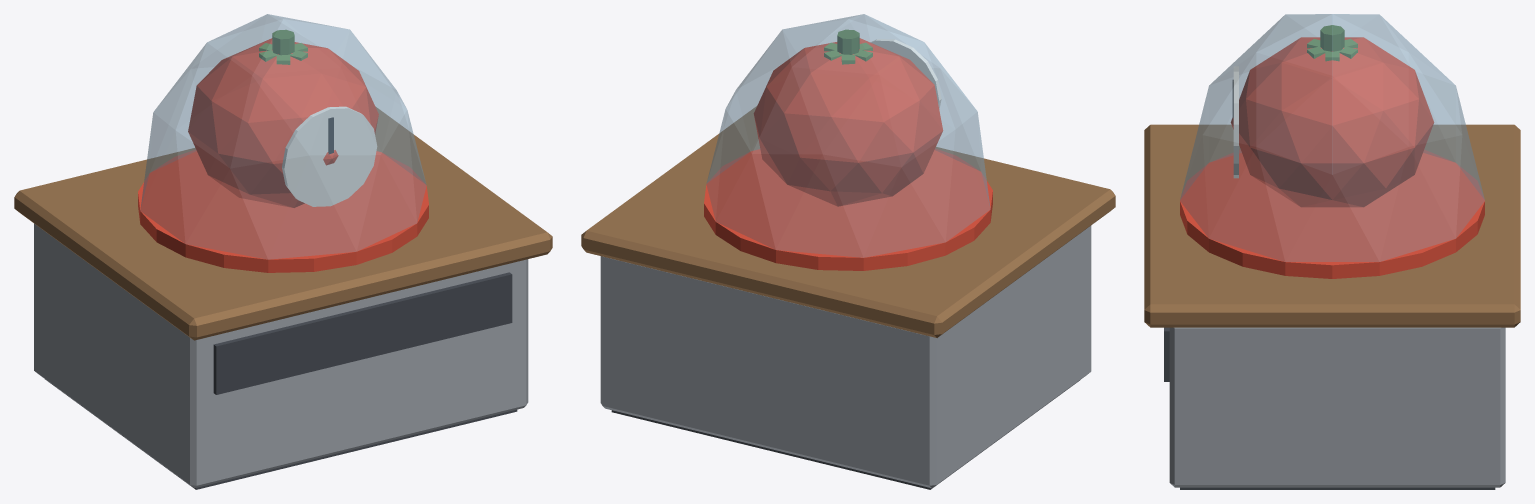
File: pomodoro_p1_4.glb
3 renders of one model, left to right at view 1: azimuth 30°, elevation 25°; view 2: azimuth 150°, elevation 25°; view 3: azimuth 270°, elevation 25°, orthographic. The views are drawn at different scales.
Visible parts, largest first — view 1: pomodoro_p1_4_mesh_Desk, pomodoro_p1_4_mesh; view 2: pomodoro_p1_4_mesh_Desk, pomodoro_p1_4_mesh; view 3: pomodoro_p1_4_mesh_Desk, pomodoro_p1_4_mesh.
Part boxes in pixels (x1=…): pomodoro_p1_4_mesh_Desk: x1=14, y1=107, x2=552, y2=489; pomodoro_p1_4_mesh: x1=138, y1=14, x2=428, y2=272; pomodoro_p1_4_mesh_Desk: x1=581, y1=106, x2=1115, y2=489; pomodoro_p1_4_mesh: x1=704, y1=14, x2=992, y2=270; pomodoro_p1_4_mesh_Desk: x1=1144, y1=124, x2=1520, y2=489; pomodoro_p1_4_mesh: x1=1180, y1=14, x2=1484, y2=278.
Bounding box in the file's own units: 0.86 × 0.855 × 0.74.
